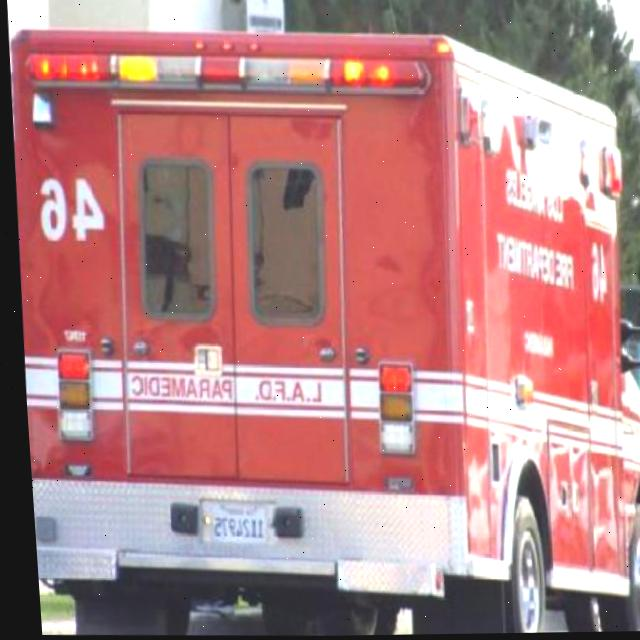emergency: (1, 17, 640, 640)
